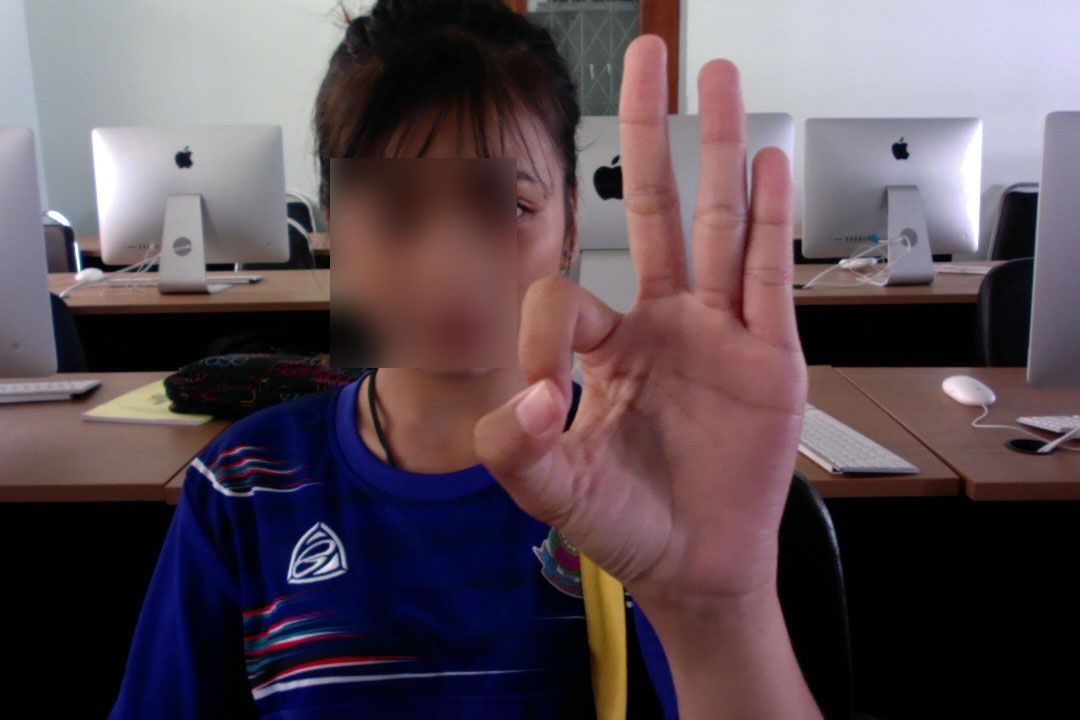for: (438, 24, 872, 655)
